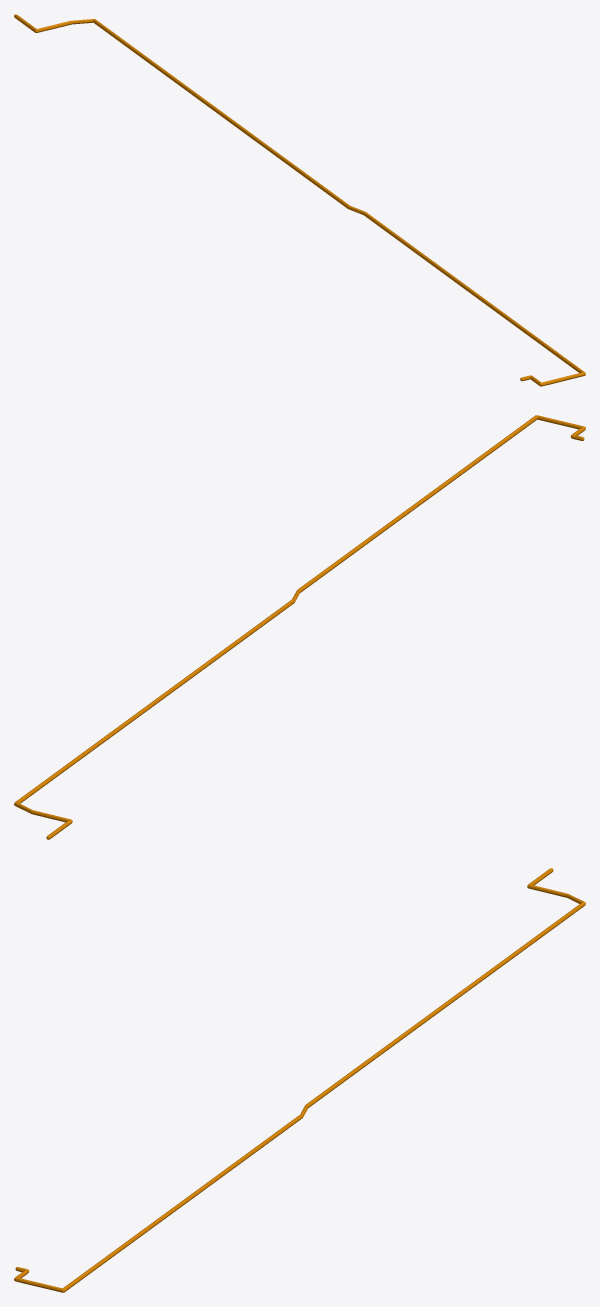
3 views of the same model, one above another, from view 1: azimuth 30°, elevation 25°; view 2: azimuth 150°, elevation 25°; view 3: azimuth 330°, elevation 25° (orthographic). The views are drawn at different scales.
Size of the model in its own units: 357 by 20 by 5010.
